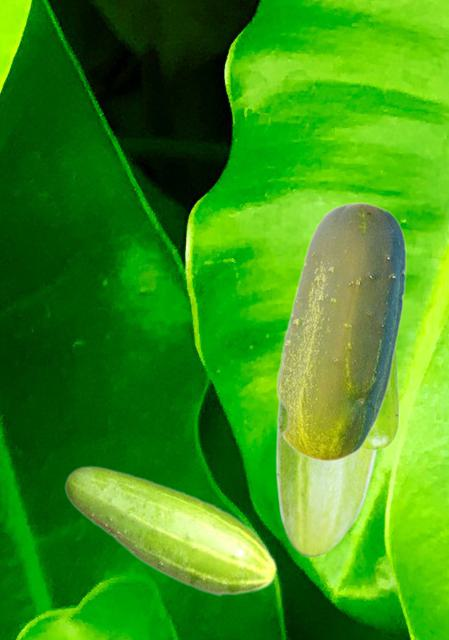cucumber: (275, 201, 405, 461), (64, 465, 277, 596), (275, 398, 379, 556), (363, 350, 398, 449)
